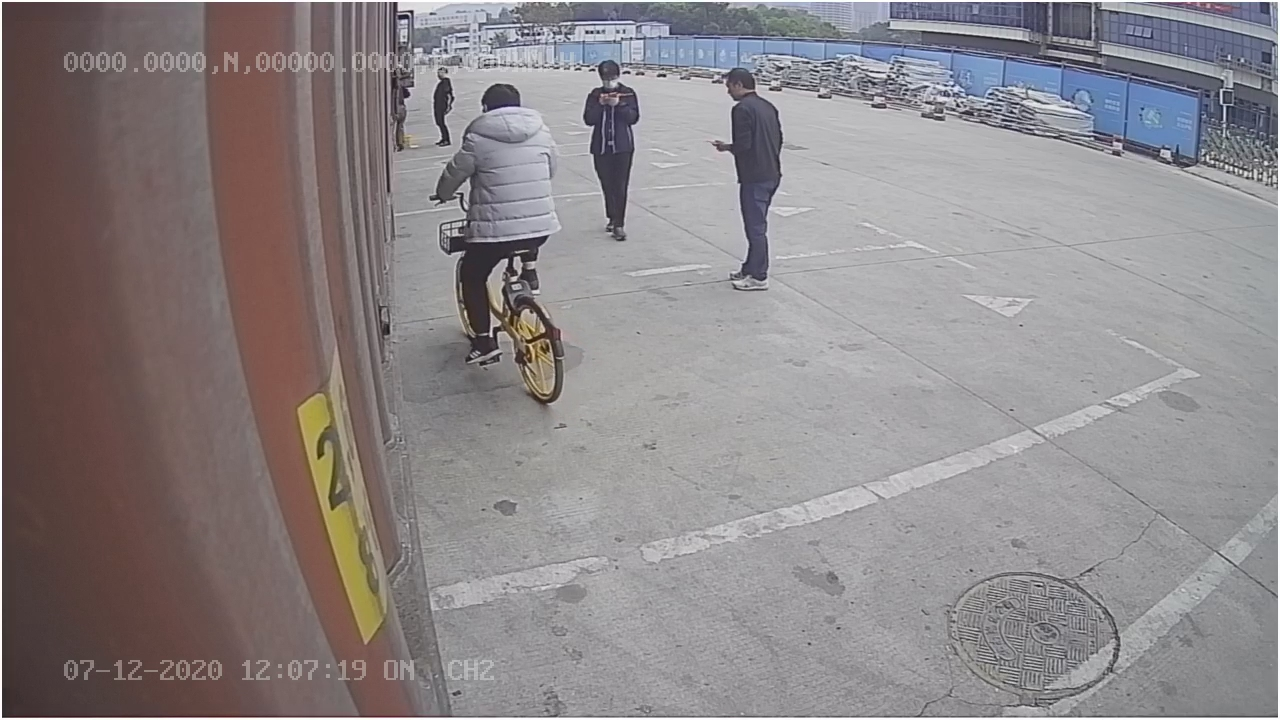person: (712, 60, 785, 294)
